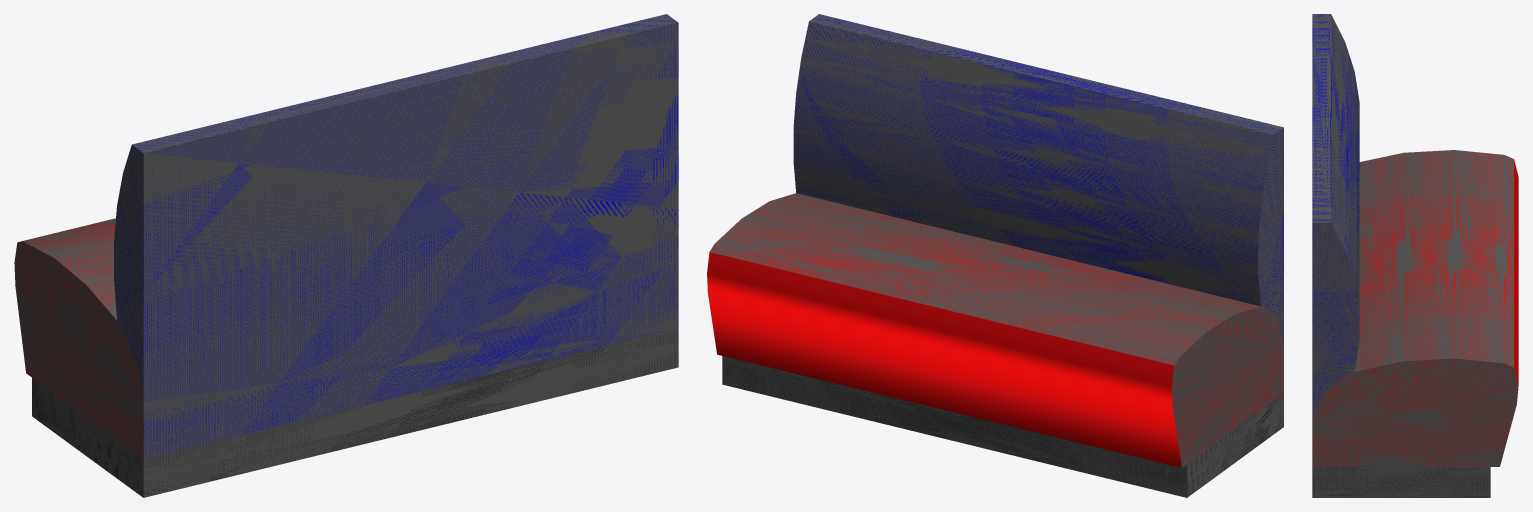
3 renders of one model, left to right at view 1: azimuth 30°, elevation 25°; view 2: azimuth 150°, elevation 25°; view 3: azimuth 270°, elevation 25°, orthographic. The views are drawn at different scales.
Visible parts, largest first — view 1: mesh1_mesh1-geometry; view 2: mesh1_mesh1-geometry; view 3: mesh1_mesh1-geometry.
Part boxes in pixels (x1,y1,x2,y2): mesh1_mesh1-geometry: (14,14,678,497); mesh1_mesh1-geometry: (707,14,1283,497); mesh1_mesh1-geometry: (1312,14,1518,497).
Bounding box in the file's own units: 0.8022 × 0.4941 × 0.3352.
